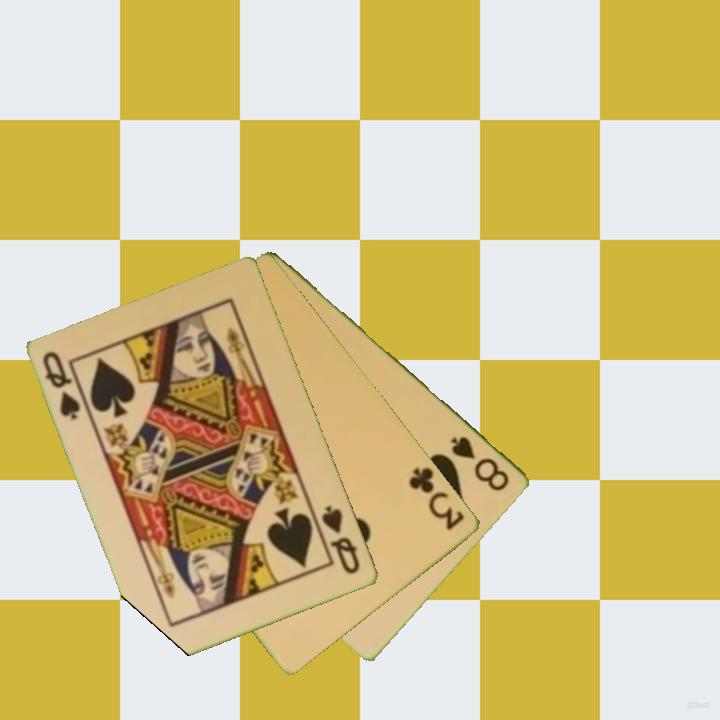3c: (405, 463, 468, 533)
8s: (447, 432, 513, 494)
Qs: (318, 502, 364, 578), (39, 348, 84, 423)
